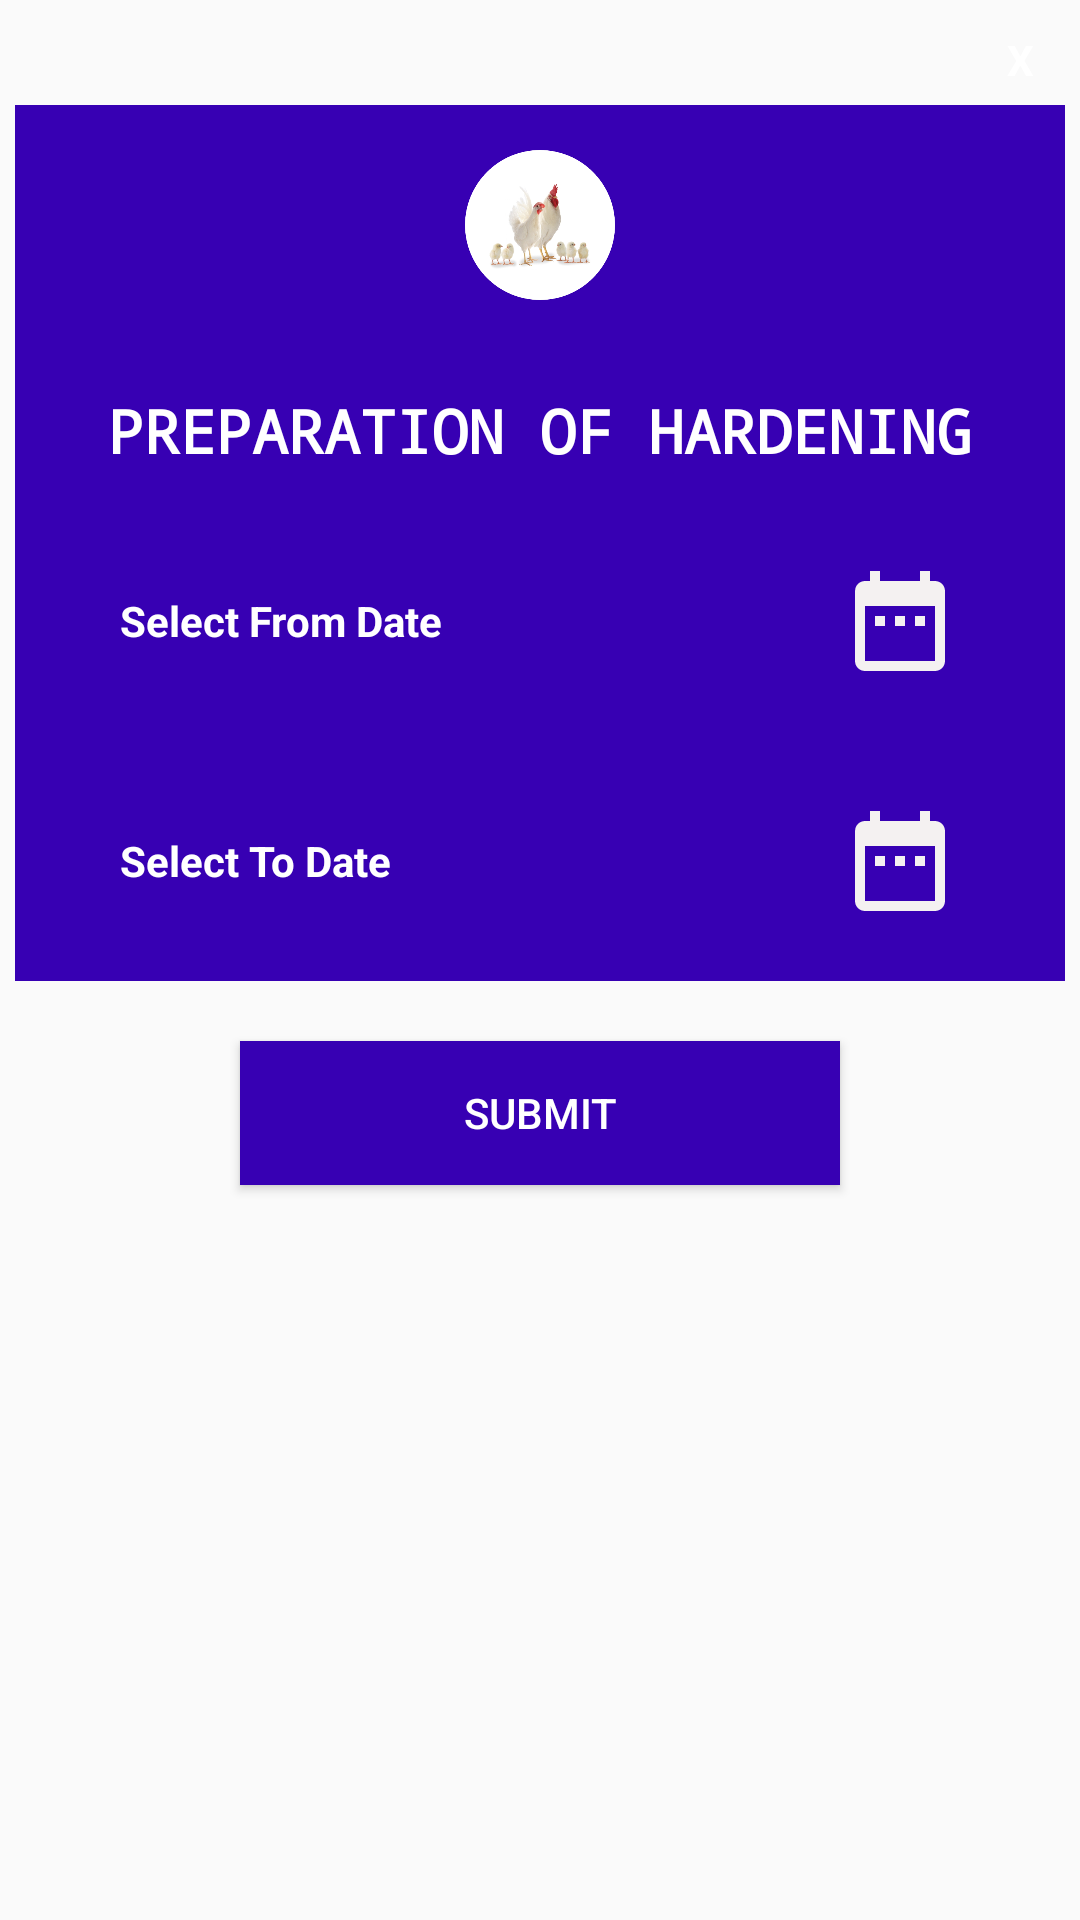

Icons on this 1080px×1920px Android screen, each with the point to tap as point (x, y):
date range: point (900, 621), point (900, 861)
